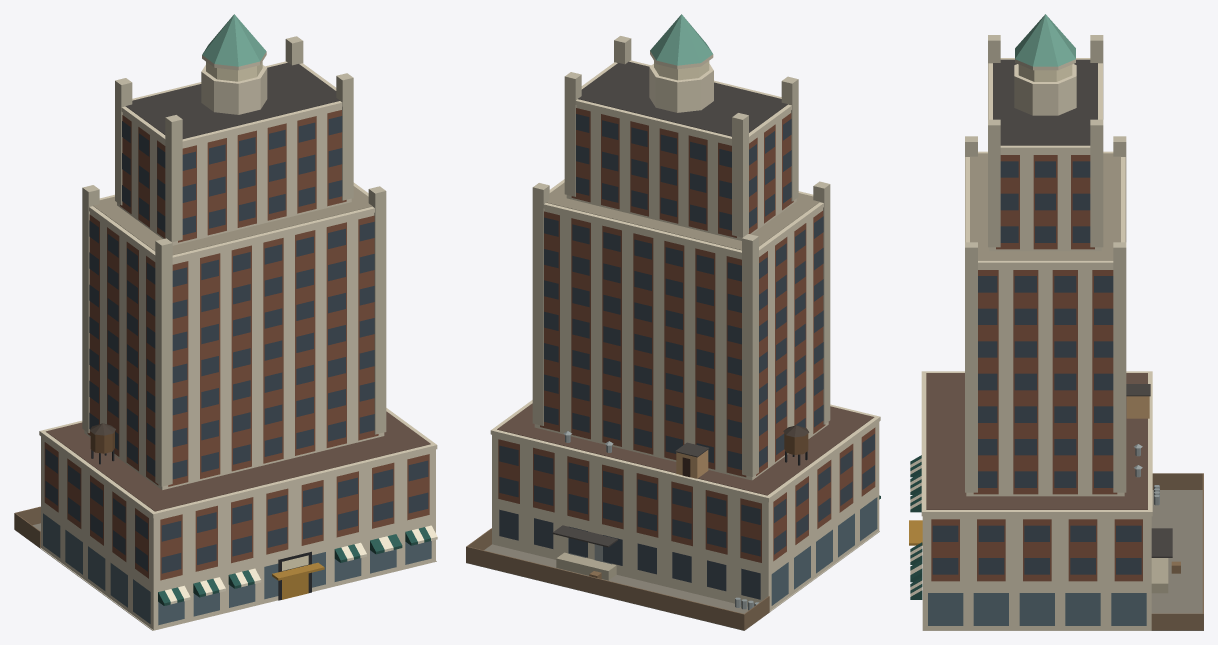
Rendered from tower_wa.glb.
3 views of the same model, side by side, from view 1: azimuth 30°, elevation 25°; view 2: azimuth 150°, elevation 25°; view 3: azimuth 270°, elevation 25° (orthographic). The views are drawn at different scales.
Parts seen in each view (by area): view 1: tower_wa; view 2: tower_wa; view 3: tower_wa.
Part boxes in pixels (box(x1,y1,x2,y2)): tower_wa: box(14, 14, 437, 630); tower_wa: box(466, 14, 880, 630); tower_wa: box(909, 14, 1203, 630).
Bounding box in the file's own units: 30 × 54.29 × 26.53.
